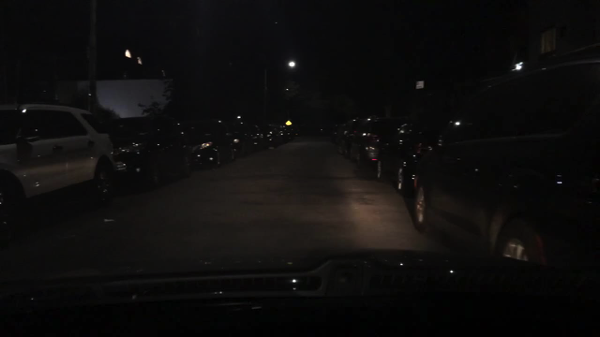car: (411, 44, 599, 270), (1, 98, 117, 240), (104, 114, 194, 194), (375, 121, 446, 194), (357, 115, 409, 169), (185, 116, 236, 169), (347, 116, 380, 165), (227, 118, 254, 158), (342, 118, 367, 156), (248, 125, 266, 153), (262, 124, 282, 148), (270, 123, 289, 145), (335, 123, 347, 154), (279, 125, 294, 141), (331, 124, 342, 142), (288, 125, 300, 137)
traffic sign: (415, 81, 423, 90)
